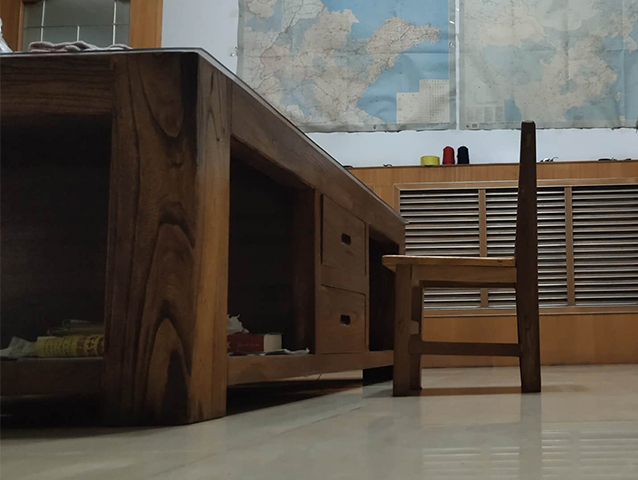stool: (378, 119, 543, 397)
table: (1, 44, 412, 428)
